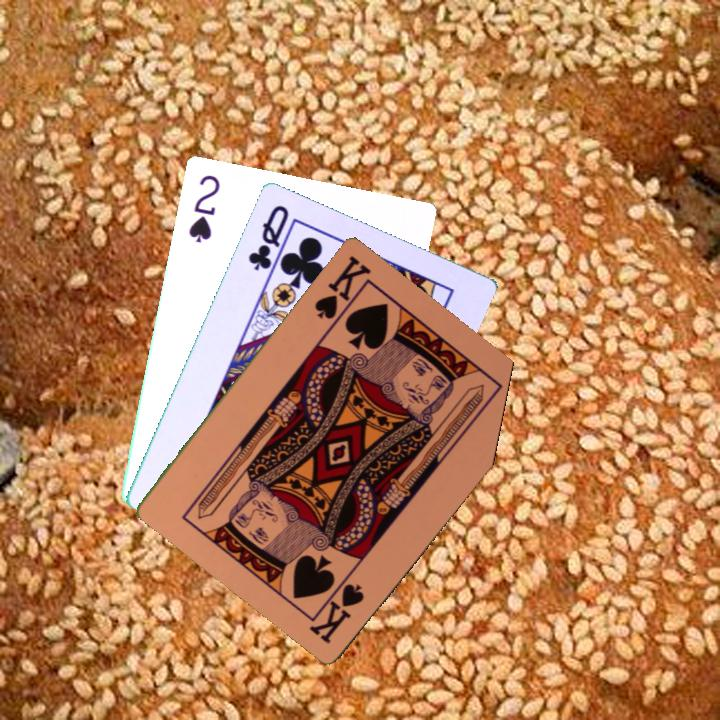2s: (184, 170, 223, 245)
Ks: (310, 250, 375, 322), (307, 579, 367, 647)
Qc: (244, 201, 297, 281)
